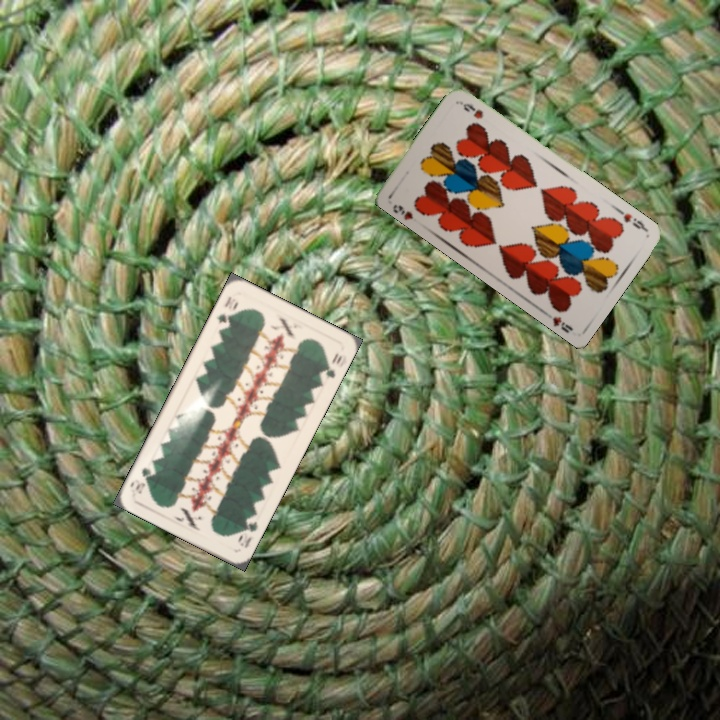G10: (236, 517, 260, 551), (213, 292, 235, 326)
H9: (619, 209, 649, 233), (388, 200, 416, 222)
